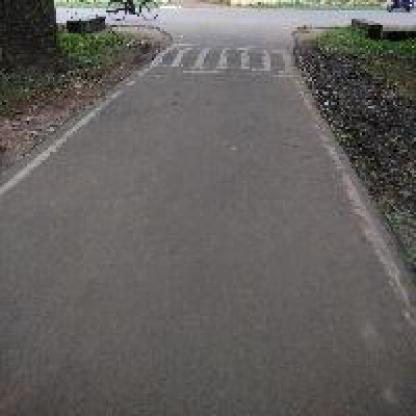Speed Bump: (146, 33, 298, 81)
